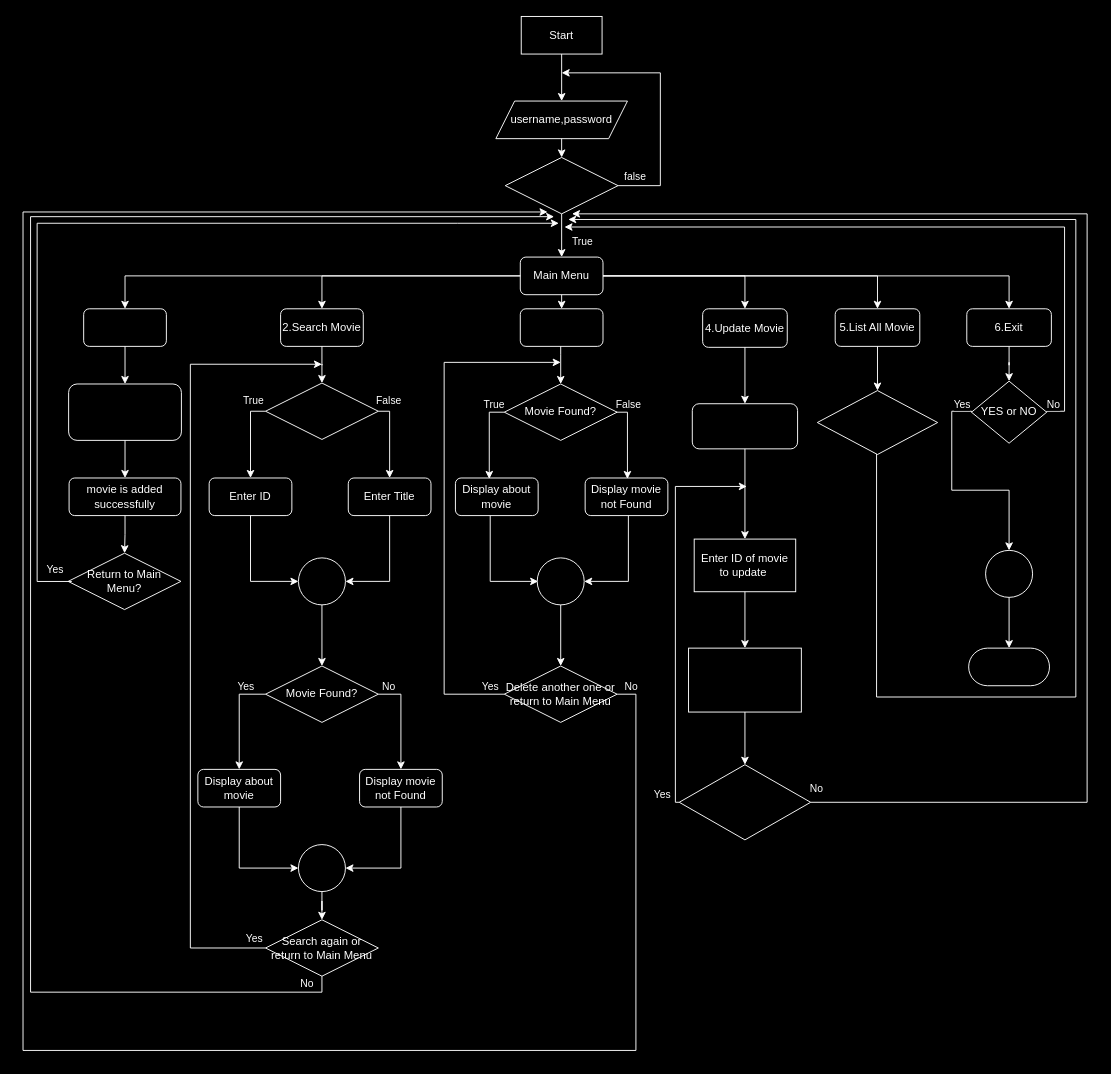
This 1111x1074 diagram has some shape labels left out. The shapes that lost their labels are listed below. From the top down, each one's centre as x and y in pixels, then its label:
At pixel 561 185: "Check username and password".
At pixel 124 327: "1.Add Movie".
At pixel 561 327: "3.Delete Movie".
At pixel 124 411: "Enter movie details: movie ID,title, genre,release year".
At pixel 321 410: "Search by ID or title".
At pixel 744 426: "Display all movie".
At pixel 877 422: "Display movie in ascending order of ID or main menu".
At pixel 744 679: "Update the movie by changing genre or release year".
At pixel 1009 666: "Exiting the program".
At pixel 744 802: "Update again or return to menu".
